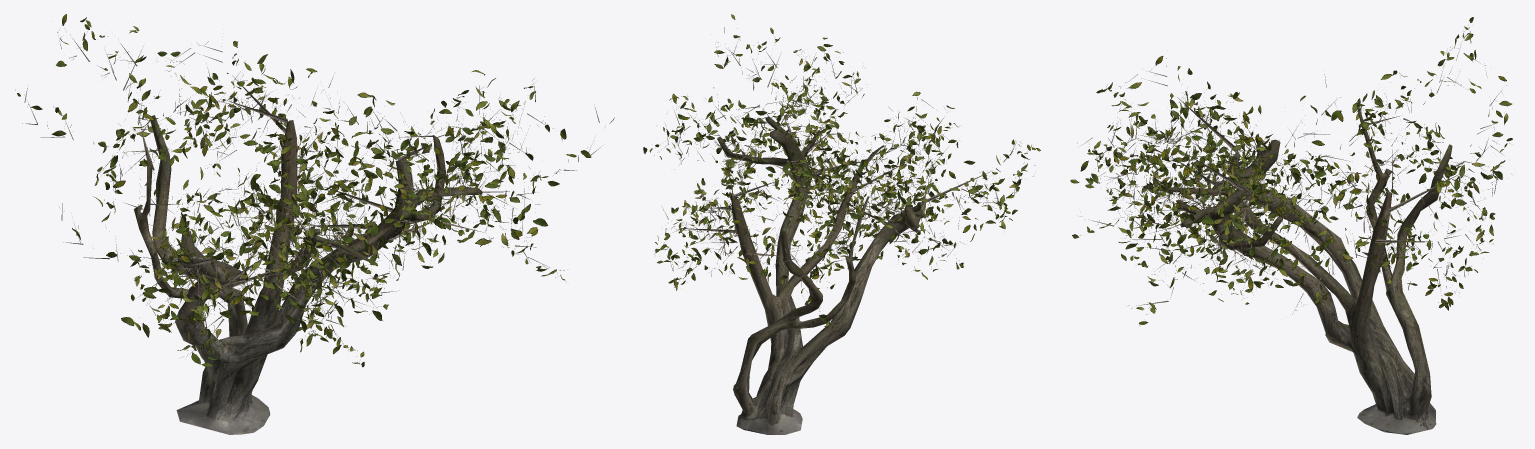
The model's file is island_tree_02_far.glb.
3 views of the same model, side by side, from view 1: azimuth 30°, elevation 25°; view 2: azimuth 150°, elevation 25°; view 3: azimuth 270°, elevation 25° (orthographic). The views are drawn at different scales.
Parts seen in each view (by area): view 1: island_tree_02_LOD0; view 2: island_tree_02_LOD0; view 3: island_tree_02_LOD0.
Part boxes in pixels (x1=…): island_tree_02_LOD0: x1=15, y1=14, x2=614, y2=434; island_tree_02_LOD0: x1=643, y1=14, x2=1040, y2=434; island_tree_02_LOD0: x1=1070, y1=17, x2=1512, y2=434.
Size of the model in its own units: 3.86 by 3.39 by 3.95.
3 materials, 3 textured.
